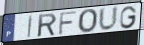F: (57, 11, 78, 36)
G: (119, 5, 138, 30)
I: (27, 14, 34, 39)
O: (77, 8, 99, 34)
R: (37, 12, 58, 38)
U: (97, 5, 119, 32)
